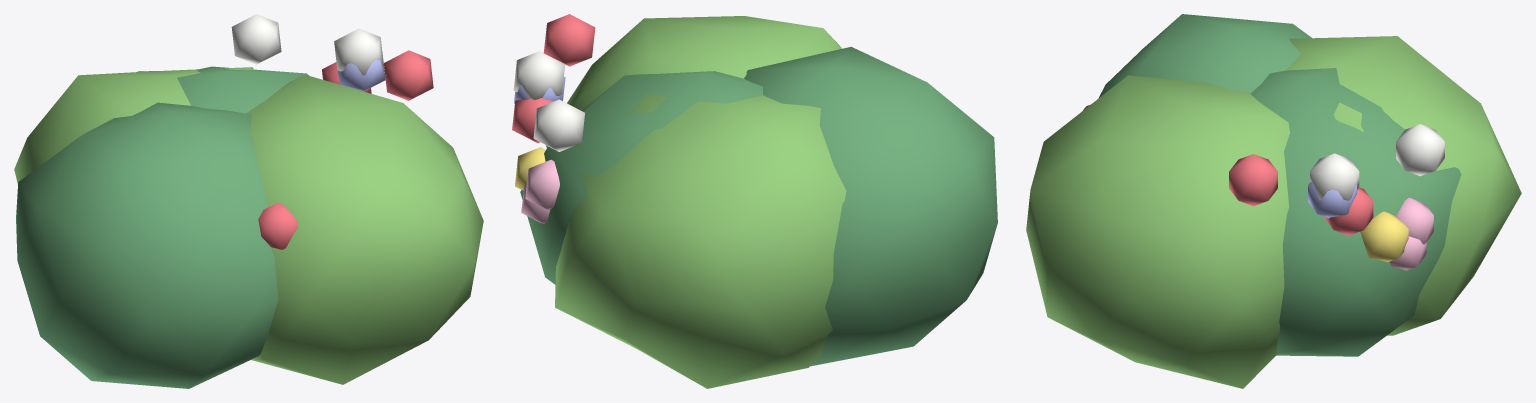
Rendered from flower_bush.fbx.
3 renders of one model, left to right at view 1: azimuth 30°, elevation 25°; view 2: azimuth 150°, elevation 25°; view 3: azimuth 270°, elevation 25°, orthographic. The views are drawn at different scales.
Visible parts, largest first — view 1: Visual; view 2: Visual; view 3: Visual.
Boxes of the visible parts, x1,y1,x2,y2 form: Visual: (14,14,483,388); Visual: (512,14,997,388); Visual: (1026,14,1521,388).
Bounding box in the file's own units: 169 × 104 × 172.
